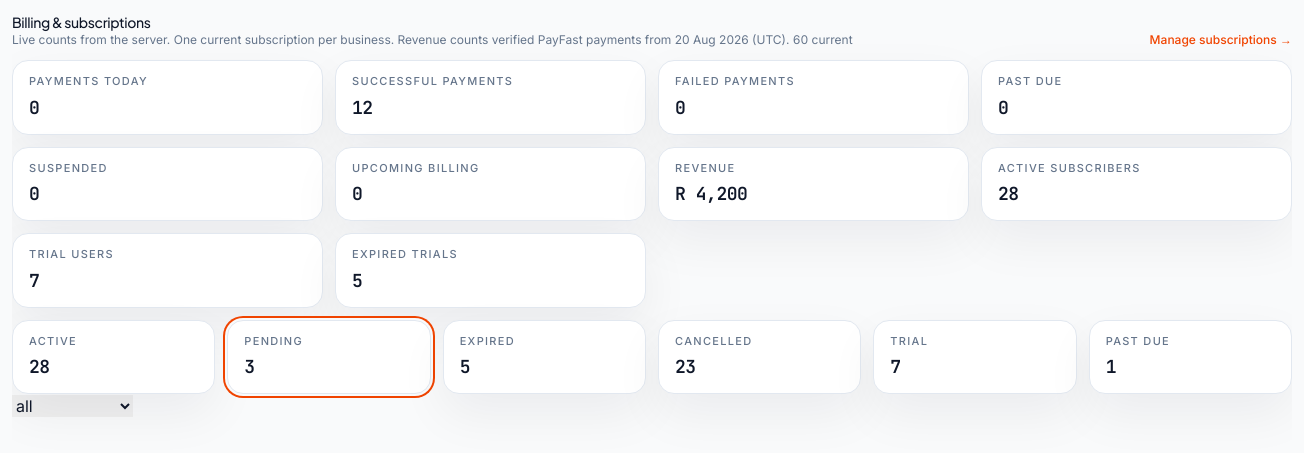
cards drive the shared filter state › applied card is marked, and cards are real buttons (keyboard operable, focusable)
Click the button "Pending 3".
click(329, 357)  # box [227,320,431,394]
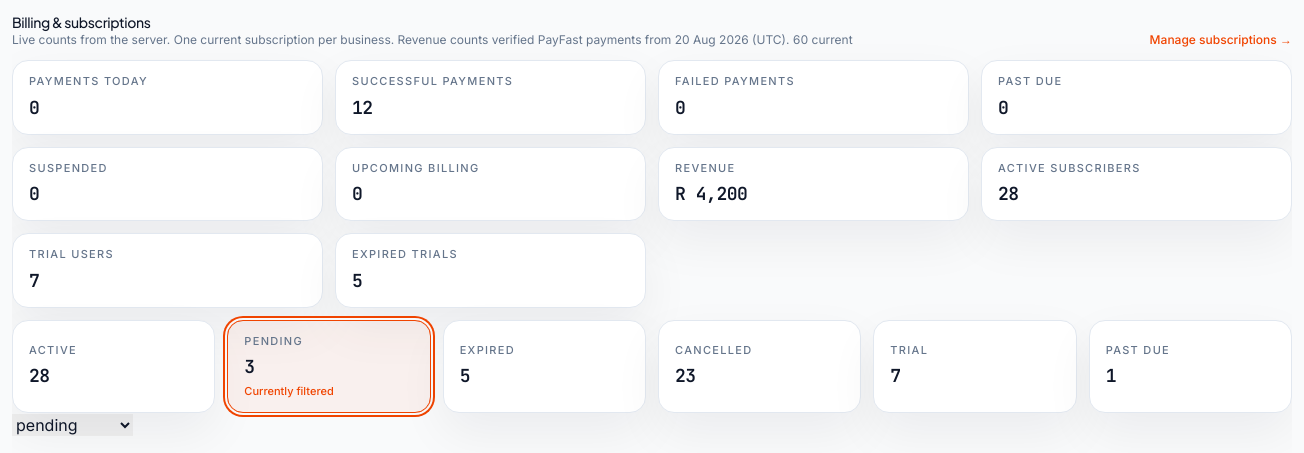
Now the dropdown with test id "status-dropdown" shows "pending", box [12,414,133,436]
Now the button "Pending 3 Currently filtered" is shown, box [227,320,431,412]
